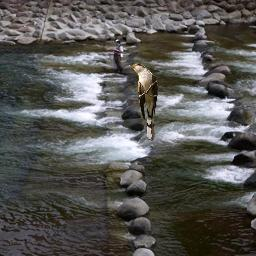Cuckoo: (129, 63, 158, 141)
